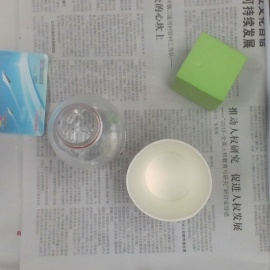bottle: (48, 94, 125, 171)
card: (1, 49, 48, 137)
cup: (126, 138, 213, 223)
